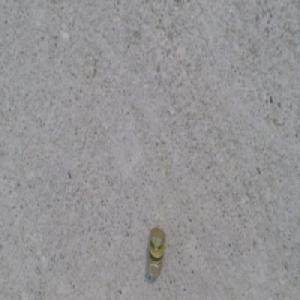BoltNutSet: (147, 228, 165, 276)
